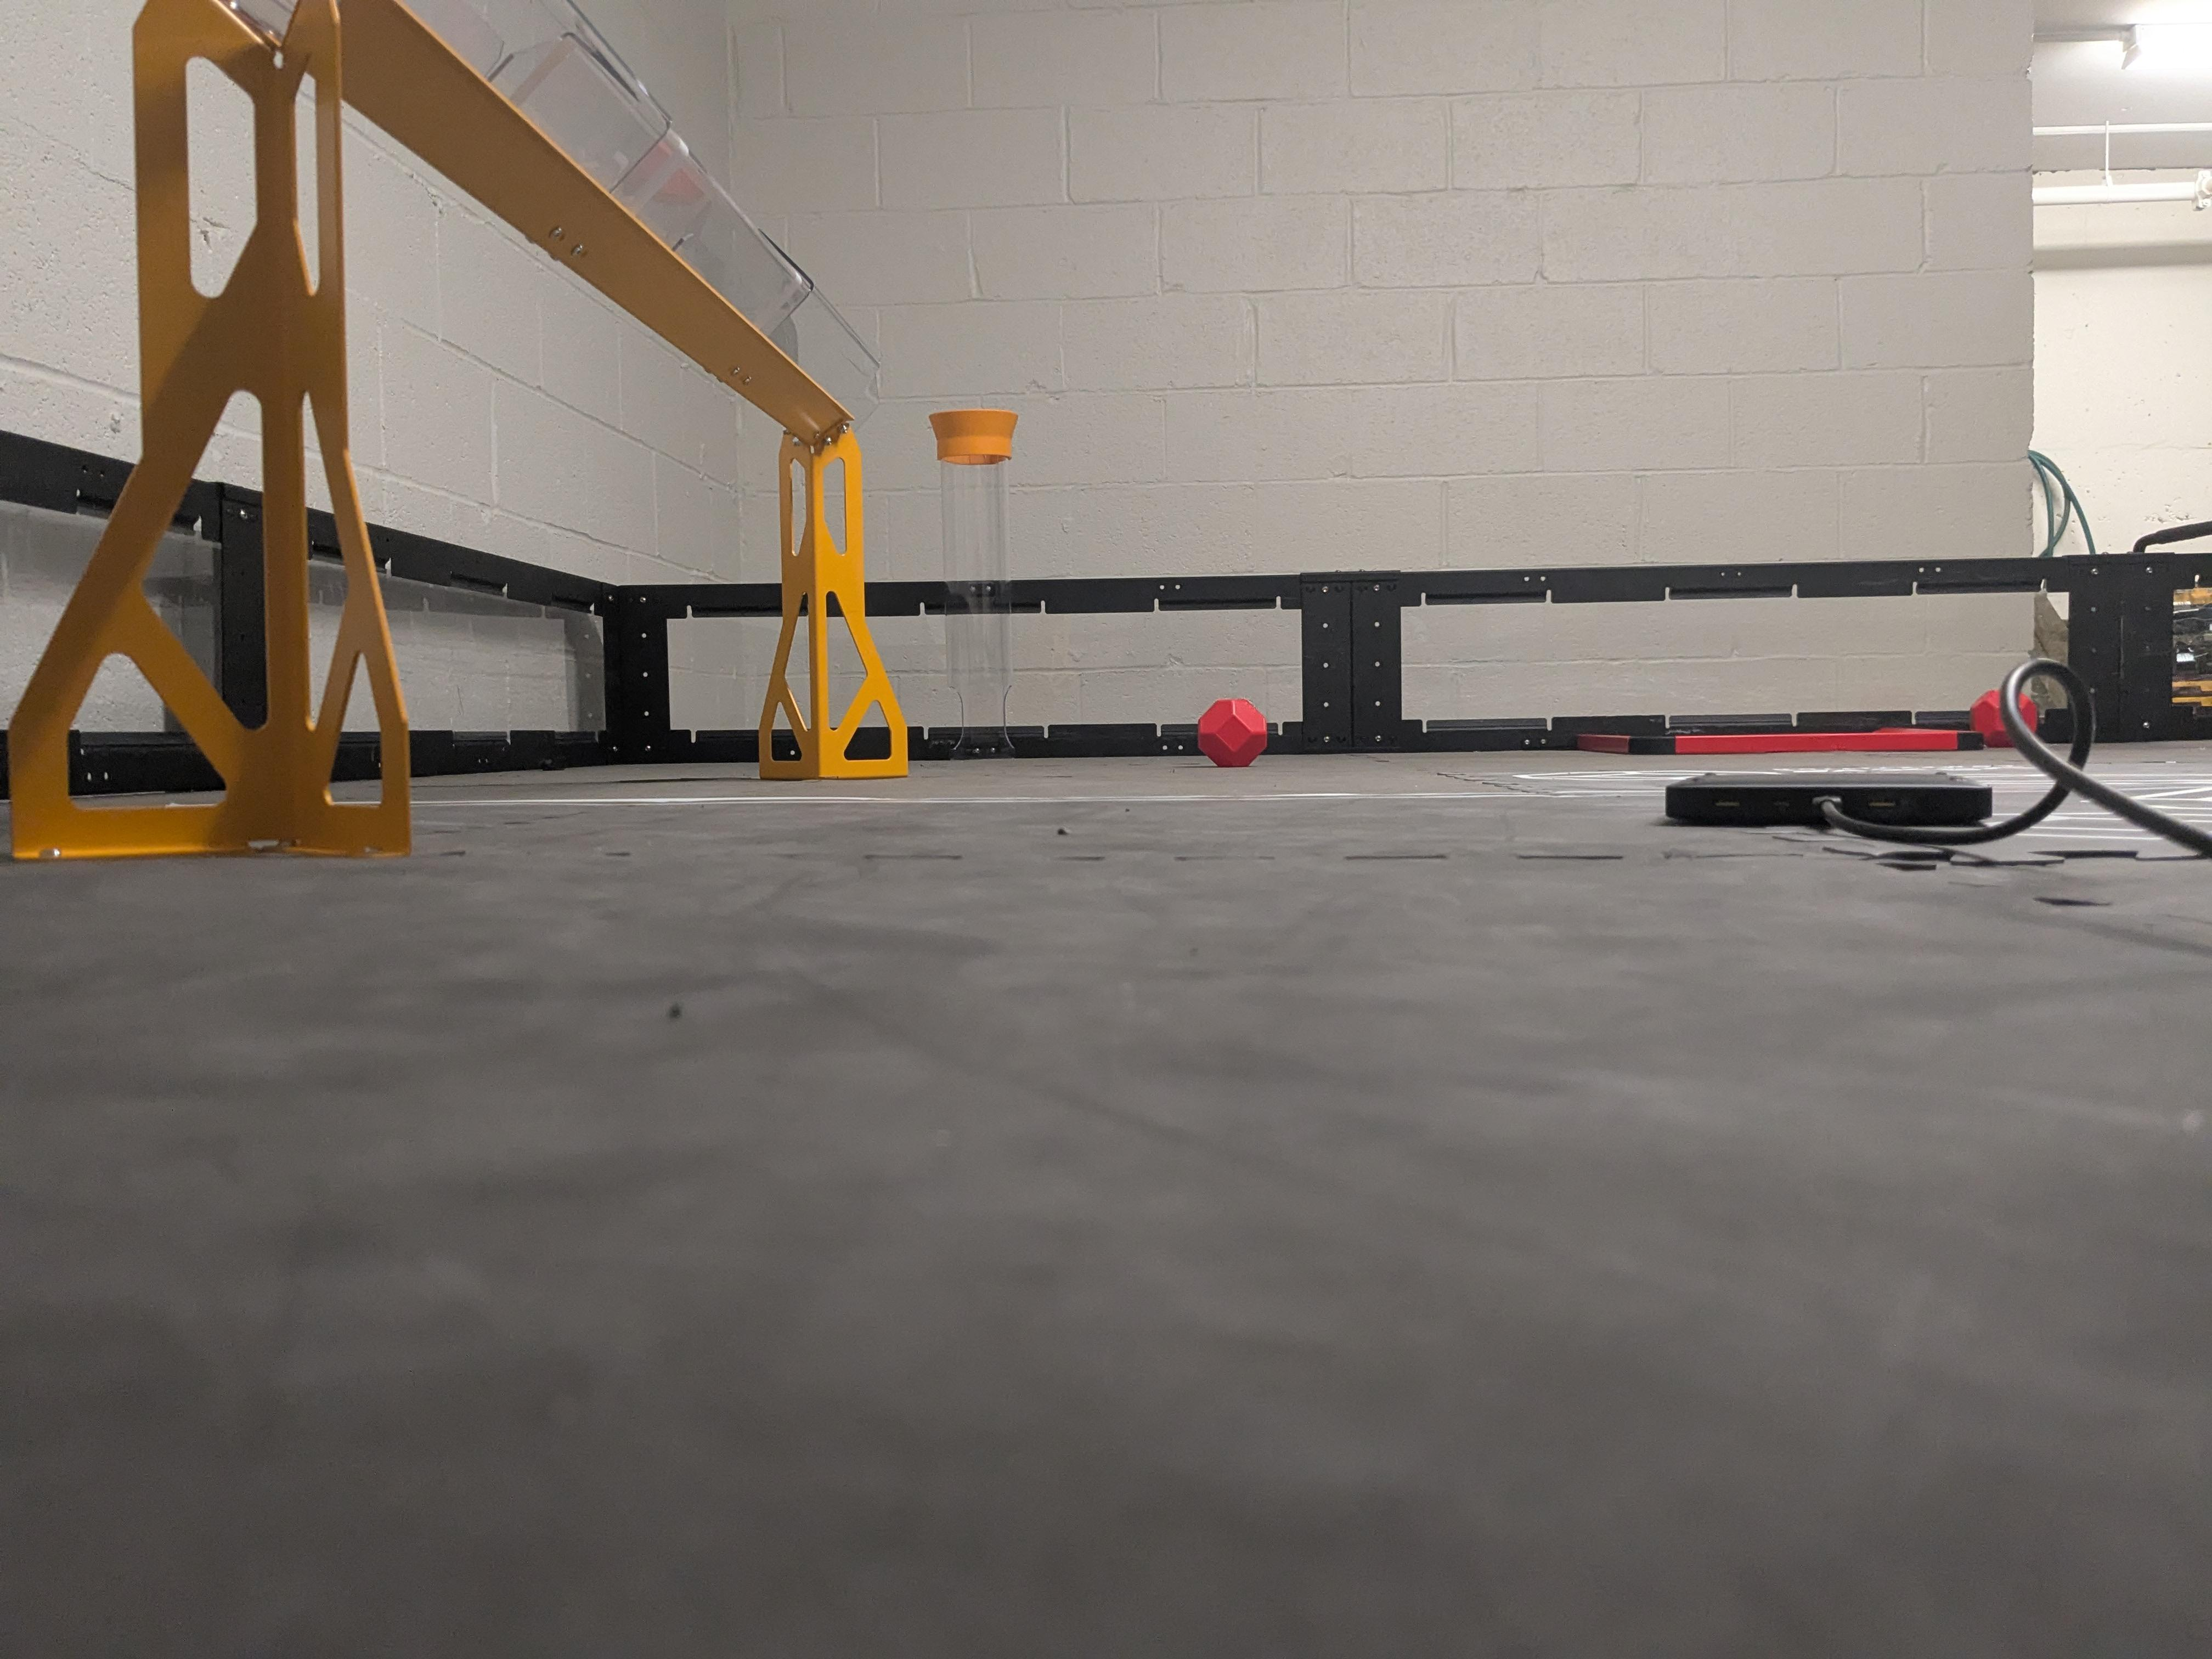Vex-Pieces-RED: (1198, 699, 1266, 767), (1970, 690, 2008, 748), (2026, 704, 2034, 718)
